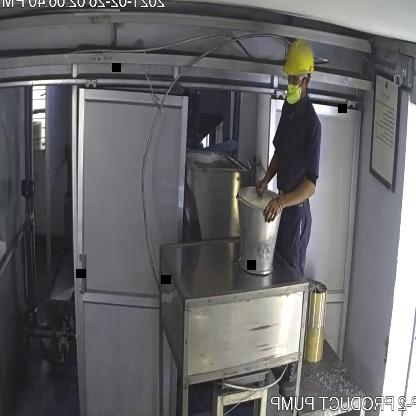helmet: (279, 32, 320, 84)
